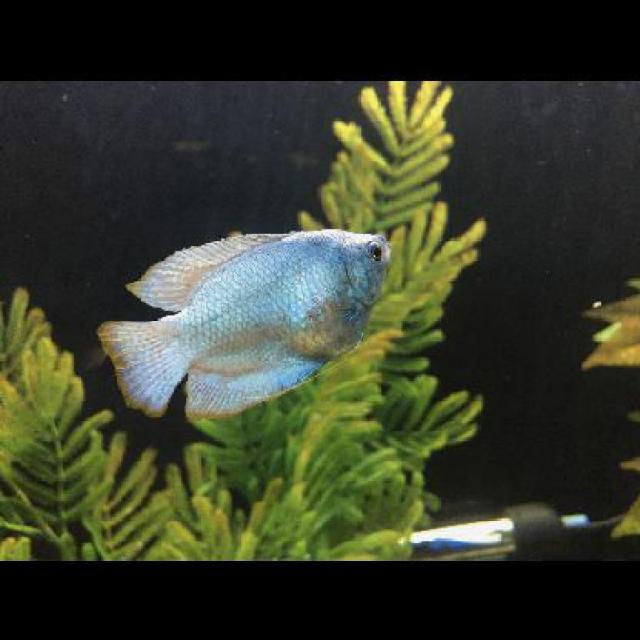Gourami: (95, 221, 394, 410)
